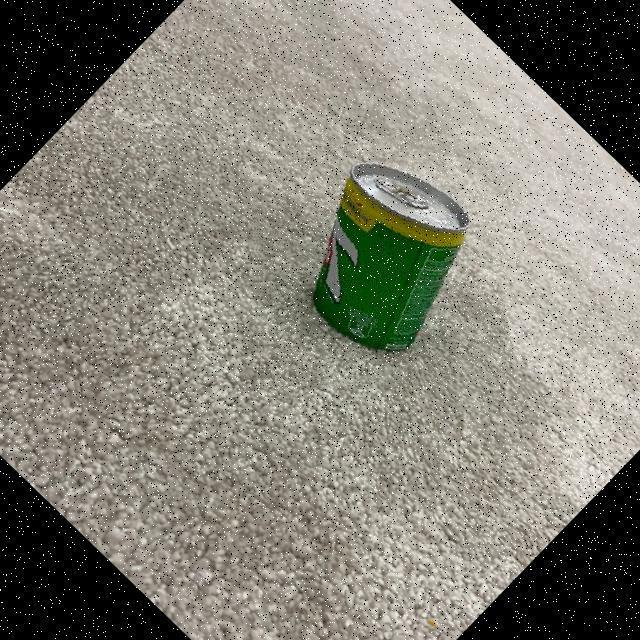recyclable: (253, 134, 505, 387)
